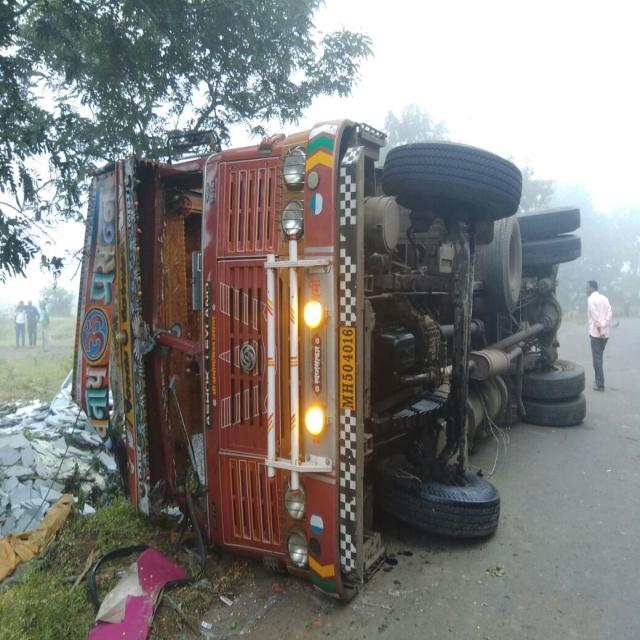accident: (72, 120, 585, 600)
